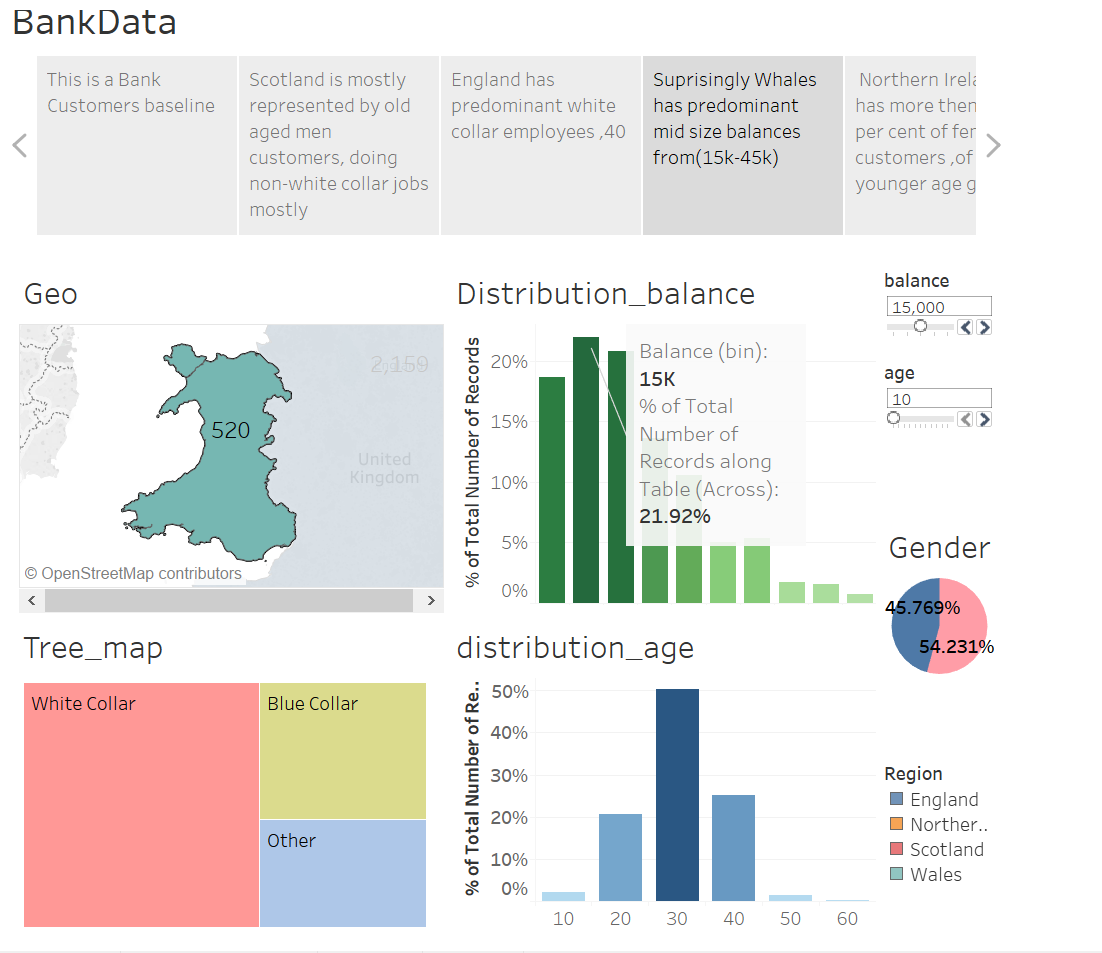

This screenshot's page, from the dashboard's own definition file:
{"tool":"tableau","page":{"name":"Dashboard 1","canvas":[1000,1000],"units":"permille","ordinal":0},"visuals":[{"type":"worksheet","title":"Geo","mark":"Multipolygon","box":[7.8,10.4,434.1,515.6]},{"type":"worksheet","title":"Distribution_balance","mark":"Automatic","rows":["Number of Records"],"cols":["Balance (bin)"],"box":[441.9,10.4,434.1,515.6]},{"type":"parameter","param":"[Parameters].[Parameter 1]","box":[876,10.4,116.2,119.8]},{"type":"parameter","param":"[Parameters].[Parameter 2]","box":[876,130.2,116.2,210.9]},{"type":"worksheet","title":"Gender","mark":"Pie","box":[876,341.2,116.2,311.2]},{"type":"worksheet","title":"Tree_map","mark":"Automatic","box":[7.8,526,434.6,463.5]},{"type":"worksheet","title":"distribution_age","mark":"Bar","rows":["Number of Records"],"cols":["Age (bin) 2"],"box":[442.4,526,433.6,463.5]},{"type":"legend","title":"Geo","param":"[federated.1nreppc0ht07c41cfi82005qtnct].[none:Region:nk]","box":[876,652.4,116.2,174.5]}]}

Visuals, with their boxes on the dashboard's canvas, which has no fixed pixel size, in thousandths of its width and height (x1, y1, x2, y2). These are canvas units, not pixel positions in the 1102x953 screenshot, which may show the page scaled, cropped or inside an application window:
"Geo" worksheet (Multipolygon marks): 8,10,442,526
"Distribution_balance" worksheet: 442,10,876,526
parameter: 876,10,992,130
parameter: 876,130,992,341
"Gender" worksheet (Pie marks): 876,341,992,652
"Tree_map" worksheet: 8,526,442,990
"distribution_age" worksheet (Bar marks): 442,526,876,990
"Geo" legend: 876,652,992,827
